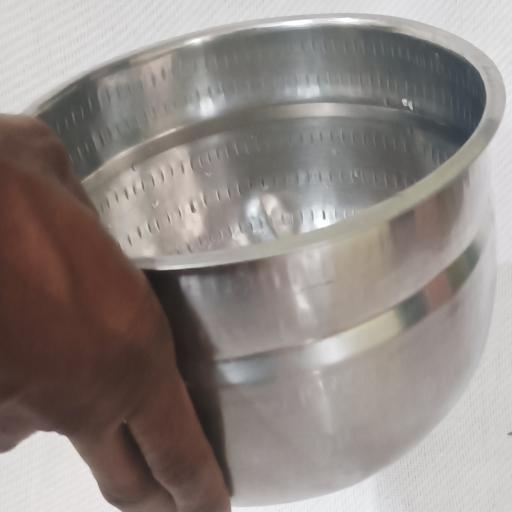vessel: (29, 15, 505, 505)
